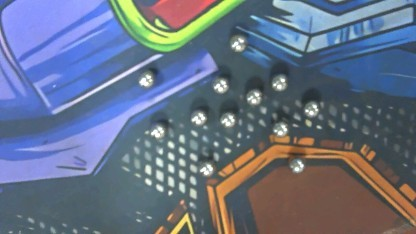ironball: (241, 82, 262, 107), (187, 106, 207, 130), (267, 71, 289, 92), (287, 151, 305, 175), (208, 73, 228, 94), (196, 158, 217, 178), (301, 96, 318, 120), (136, 69, 156, 88), (227, 34, 246, 53), (146, 120, 166, 138), (219, 110, 237, 130), (271, 121, 287, 137)
